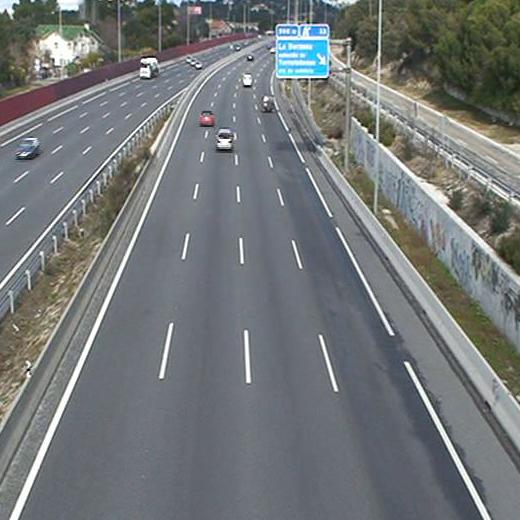car: (210, 127, 238, 153), (197, 107, 218, 130)
